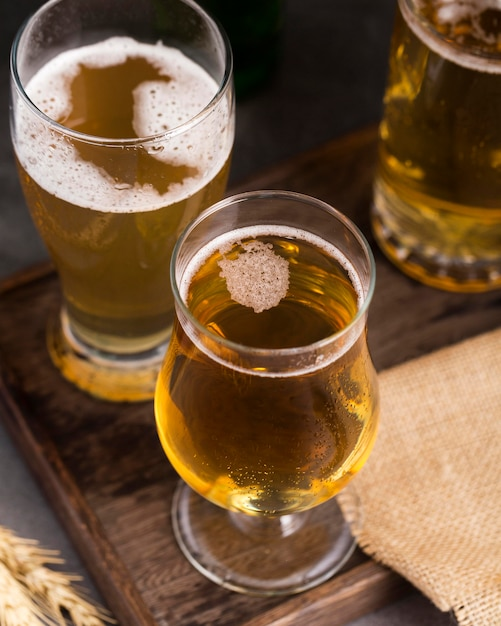alcohol: (154, 186, 386, 602), (8, 0, 242, 409), (372, 0, 501, 290)
